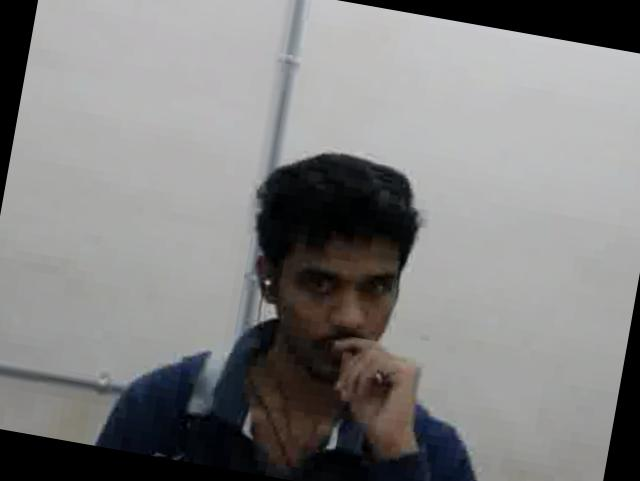bosan: (269, 218, 408, 382)
